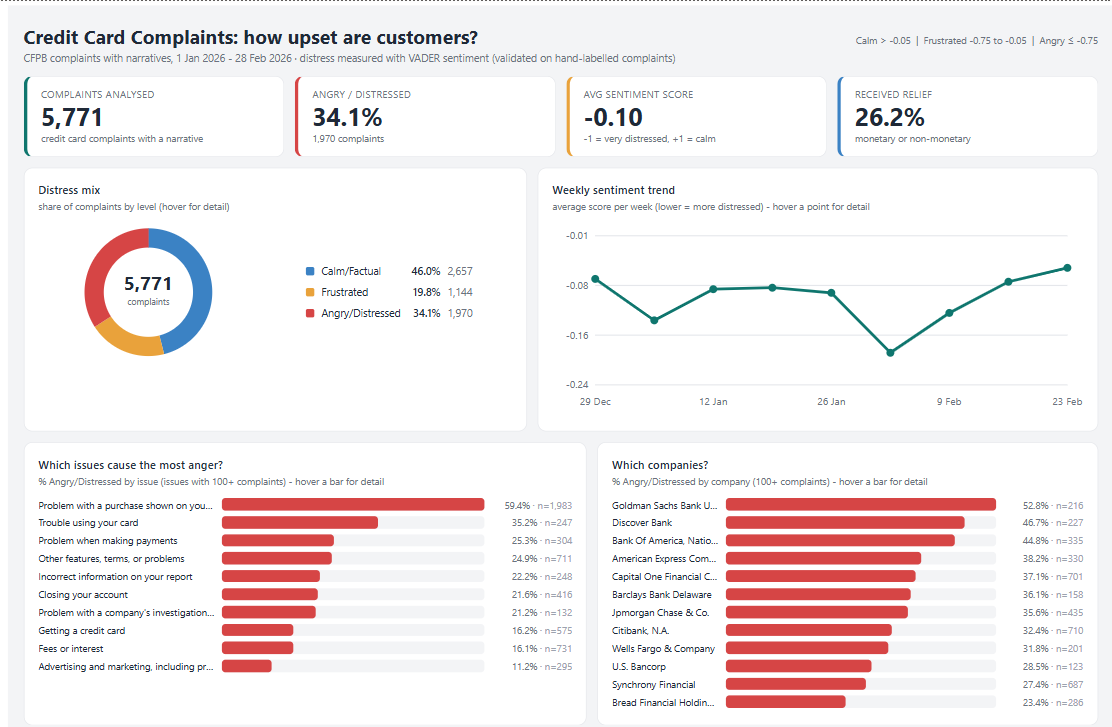

Layout of this report page (visuals, bound fields, positions):
{"tool":"powerbi","page":{"name":"Page 1","canvas":[1280,1200],"ordinal":1},"visuals":[{"type":"htmlContent443BE3AD55E043BF878BED274D3A6865","fields":{"content":["complaints_enriched.Dashboard HTML"]},"box":[8.3,0,1273,1200.4],"z":0}]}

Visuals, with their boxes on the page's 1280x1200 design canvas (x1, y1, x2, y2). These are canvas units, not pixel positions in the 1112x727 screenshot, which may show the page scaled, cropped or inside an application window:
htmlContent443BE3AD55E043BF878BED274D3A6865 - complaints_enriched.Dashboard HTML: x1=8, y1=0, x2=1281, y2=1200
